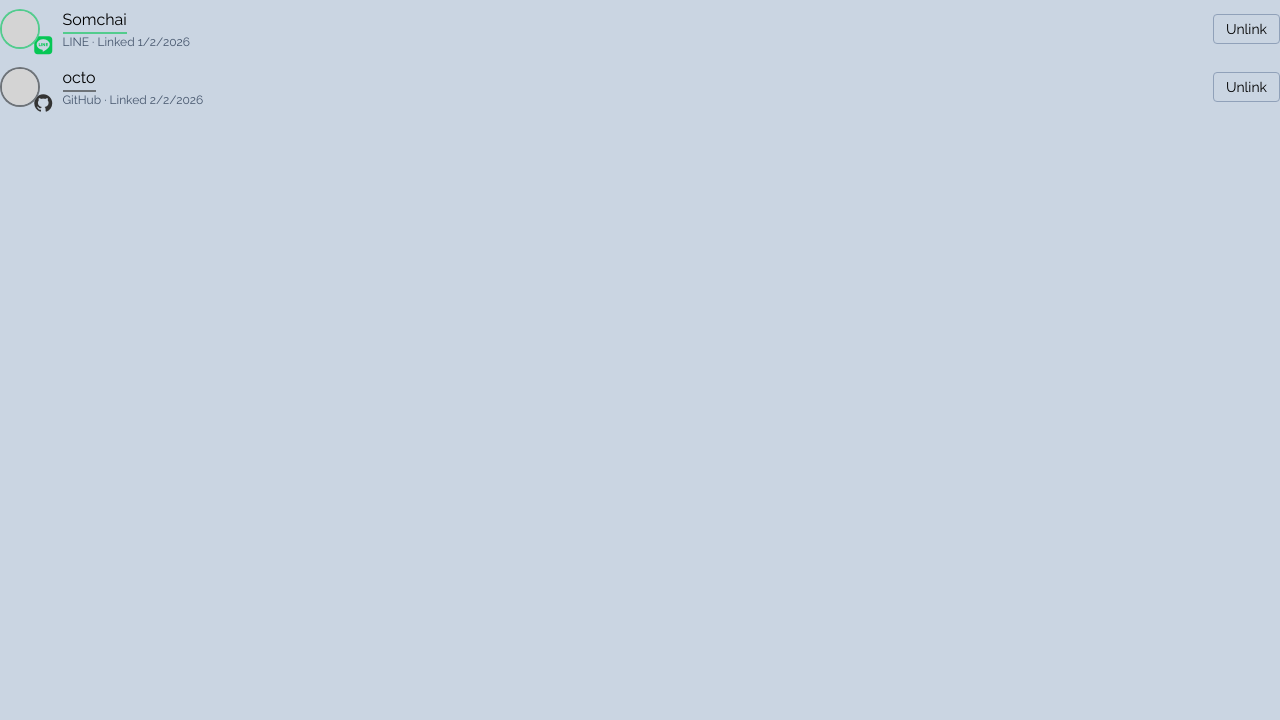
Test: LinkedAccounts › keeps the provider when the confirmation is declined
Click the button with aria-label "Unlink LINE".
click(1246, 29)  # box [1213,14,1279,44]
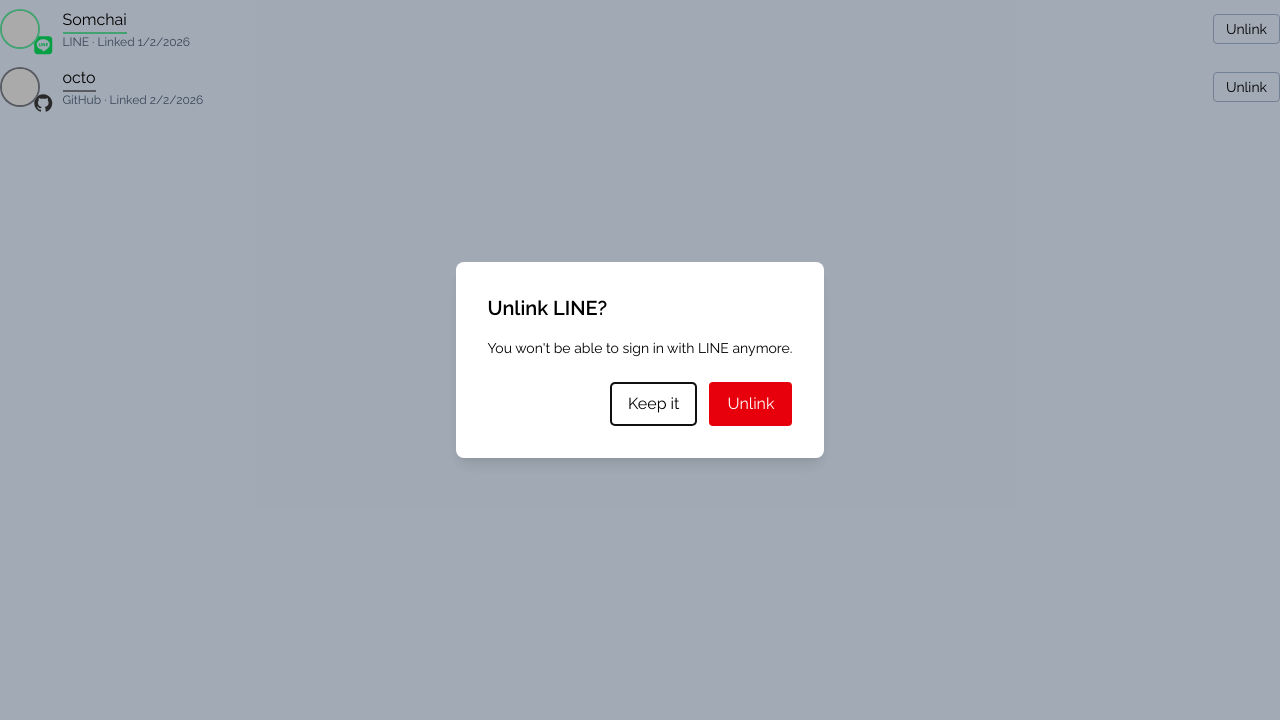
Click the button "Keep it".
click(654, 404)  # box [610,382,698,426]
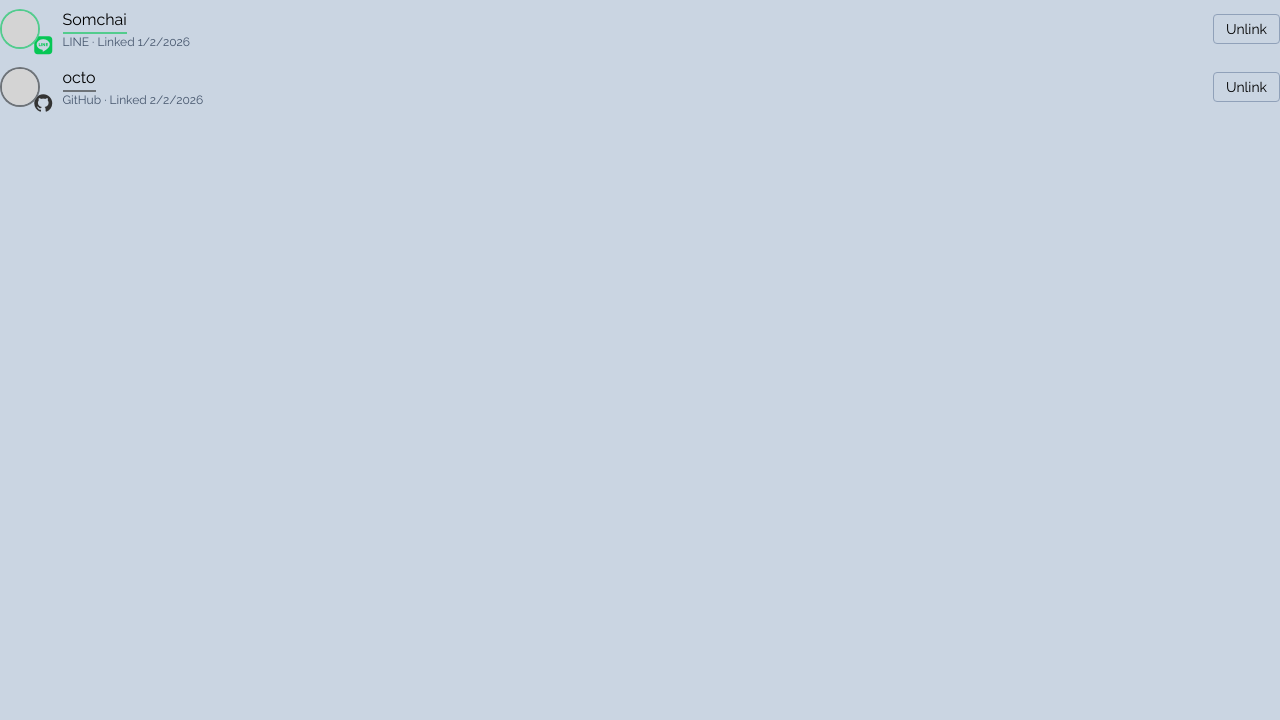
Result: the dialog is gone
